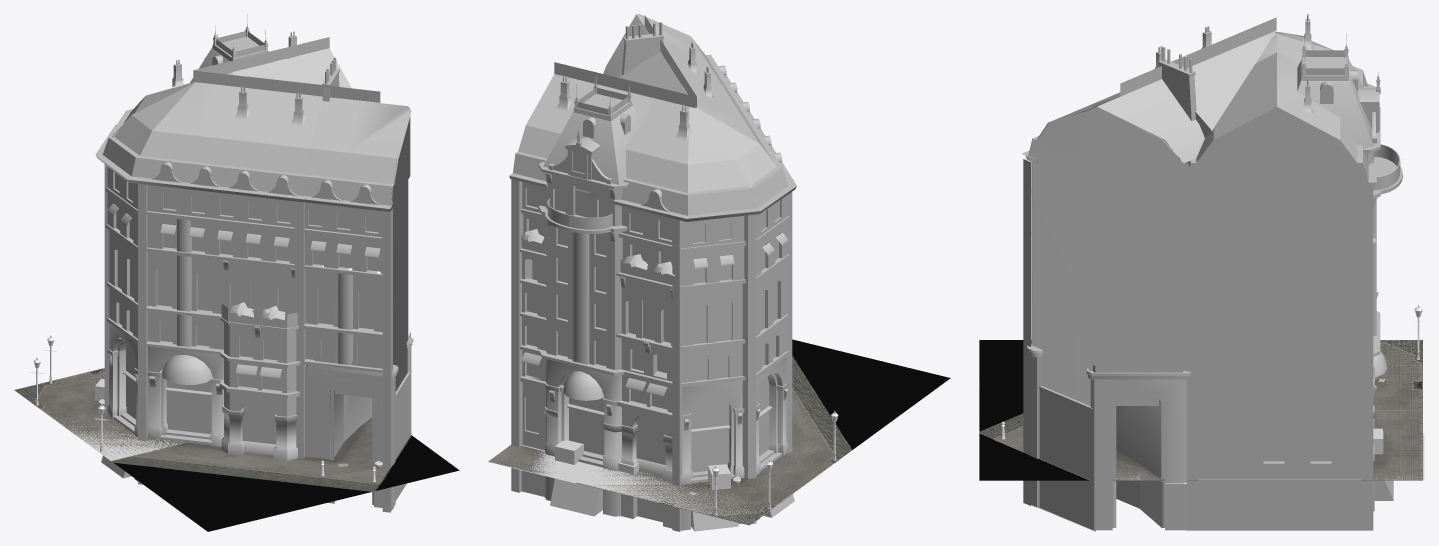
File: narrow2.gltf
3 views of the same model, side by side, from view 1: azimuth 30°, elevation 25°; view 2: azimuth 150°, elevation 25°; view 3: azimuth 270°, elevation 25° (orthographic). The views are drawn at different scales.
Parts seen in each view (by area): view 1: _lod0, decal, BuildBlocker.002; view 2: _lod0, decal, BuildBlocker.002, BuildBlocker, fc_feedback_door_1; view 3: _lod0, decal.
Boxes of the visible parts, bbox=[...] form: _lod0: bbox=[95, 14, 413, 512]; decal: bbox=[14, 364, 459, 531]; BuildBlocker.002: bbox=[15, 369, 185, 460]; _lod0: bbox=[509, 14, 796, 531]; decal: bbox=[488, 339, 950, 525]; BuildBlocker.002: bbox=[577, 452, 849, 524]; BuildBlocker: bbox=[488, 450, 597, 483]; fc_feedback_door_1: bbox=[555, 440, 583, 464]; _lod0: bbox=[1021, 14, 1402, 531]; decal: bbox=[979, 340, 1422, 480].
Size of what is drawn, in the model's own units: 3.07 by 4.52 by 4.01.
